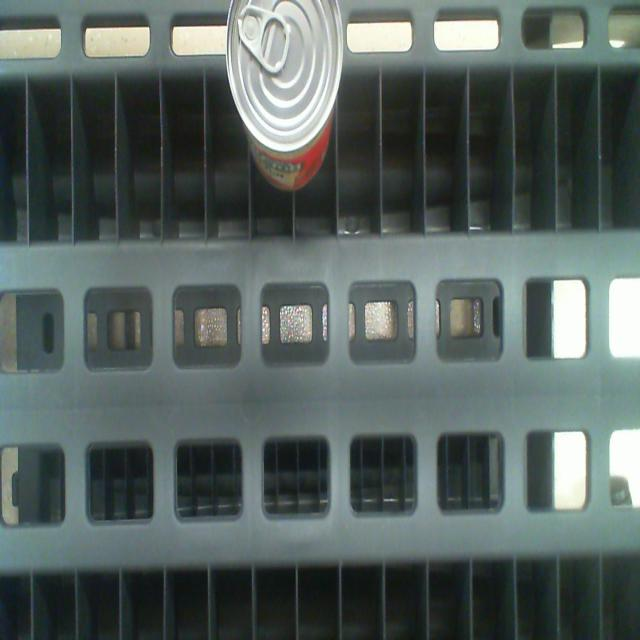can: (225, 2, 343, 152)
